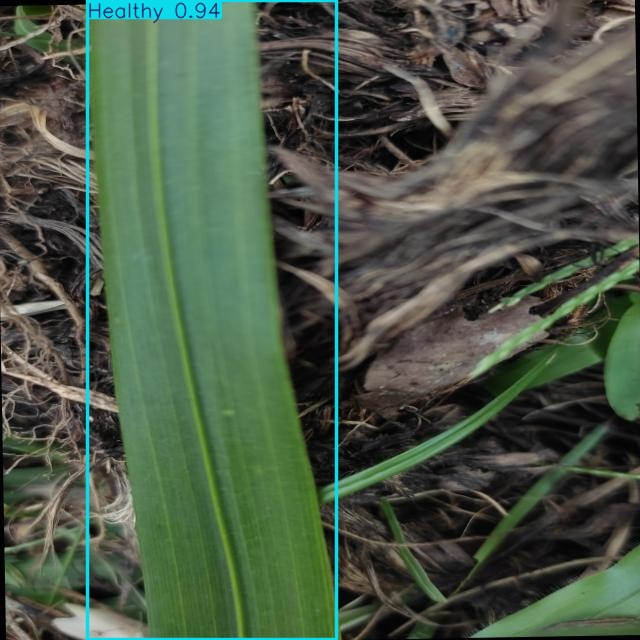Healthy: (87, 1, 337, 640)
